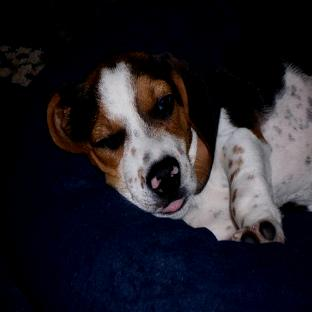Animal: (46, 24, 311, 242)
